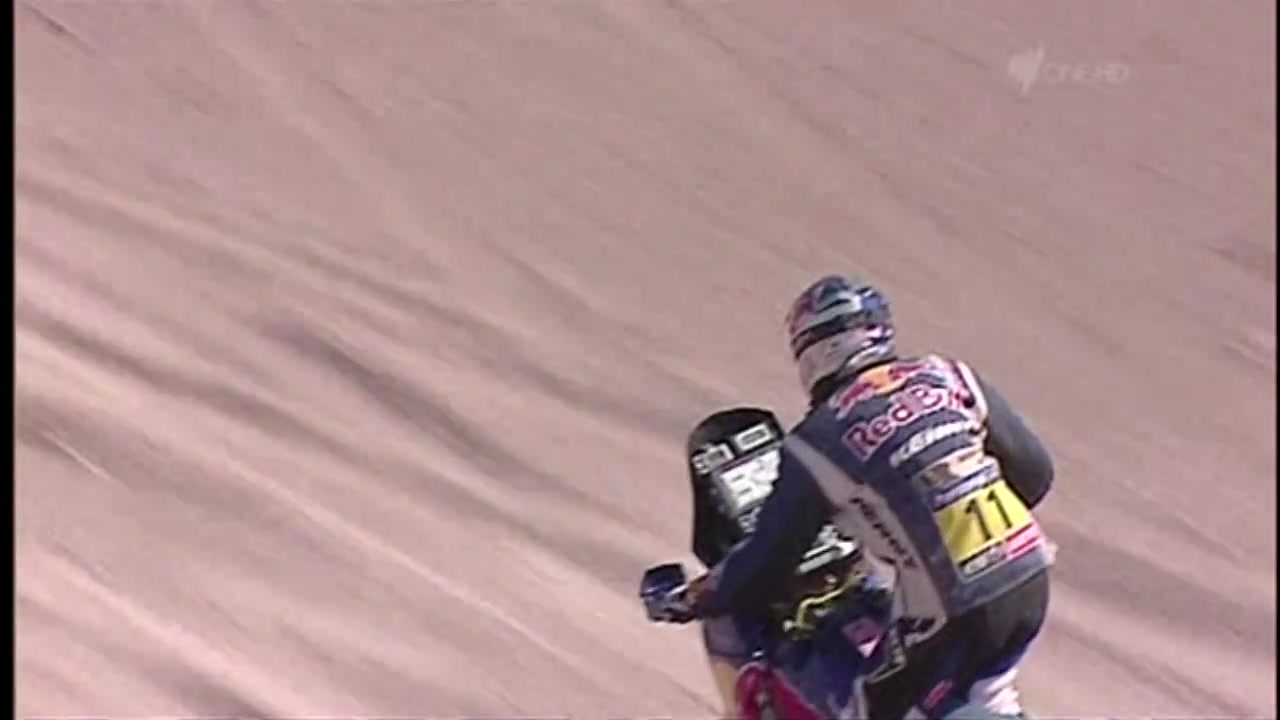motorbike: (639, 402, 1043, 720)
